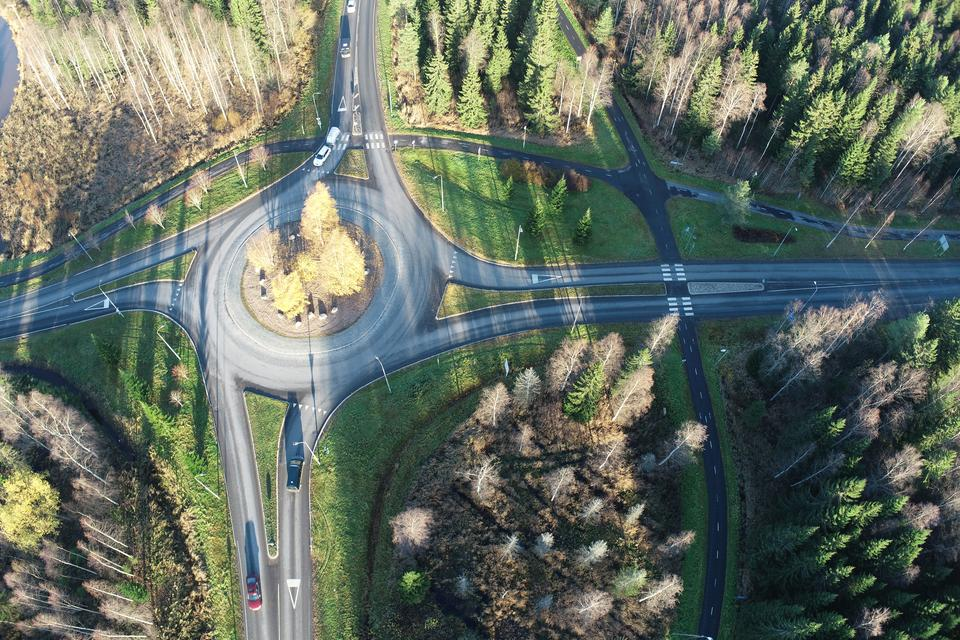intersection: (649, 248, 718, 353), (306, 120, 407, 158)
roundabout: (124, 166, 558, 454)
